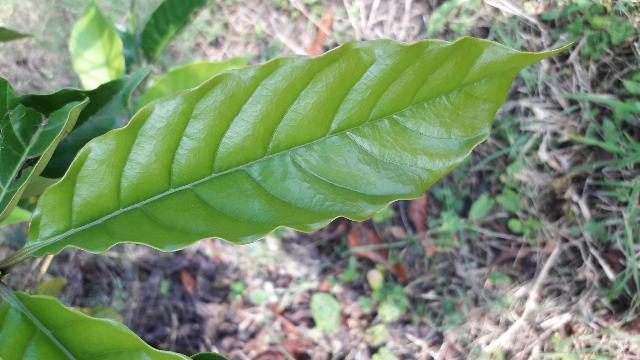healthy: (9, 37, 561, 257)
